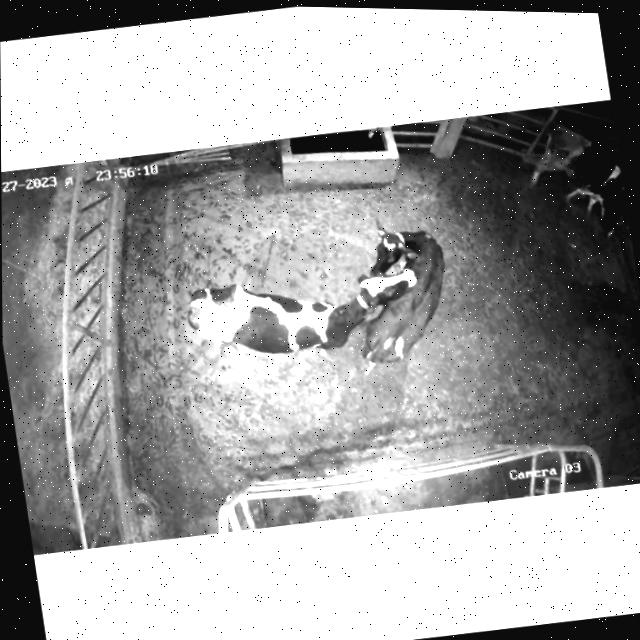propping: (335, 259, 434, 324)
